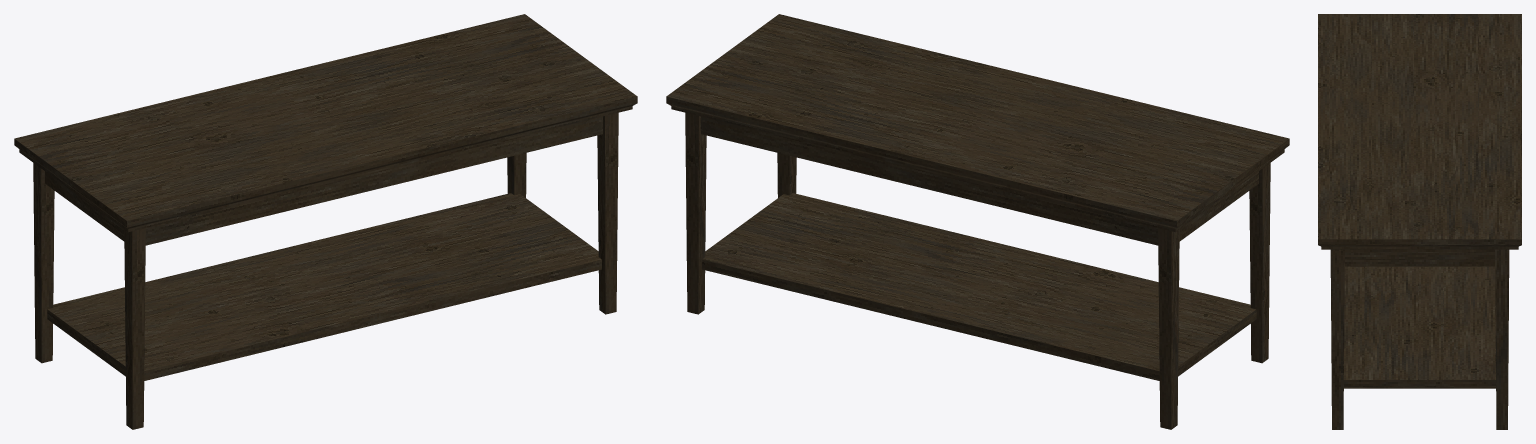
The model's file is coffee_table_1_4.glb.
The picture shows the model from 3 angles, left to right: view 1: azimuth 30°, elevation 25°; view 2: azimuth 150°, elevation 25°; view 3: azimuth 270°, elevation 25°; orthographic projection. The views are drawn at different scales.
Parts seen in each view (by area): view 1: coffee_table_1_4; view 2: coffee_table_1_4; view 3: coffee_table_1_4.
Part boxes in pixels (x1,y1,x2,y2): coffee_table_1_4: (14,14,637,429); coffee_table_1_4: (666,14,1289,429); coffee_table_1_4: (1318,14,1521,429).
Size of the model in its own units: 1.62 by 0.66 by 0.62.
Materials: 1 (1 with a texture image).
